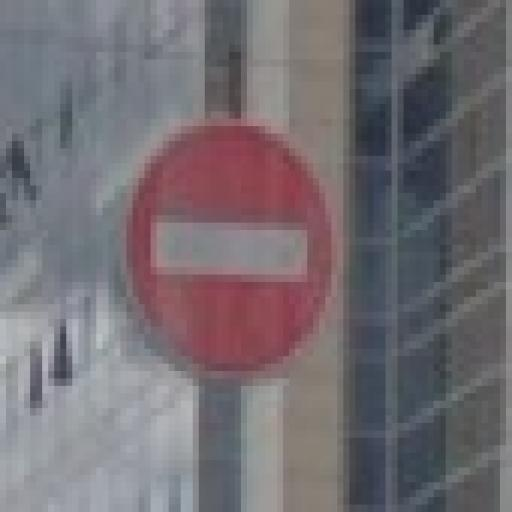traffic_sign: (116, 113, 345, 395)
